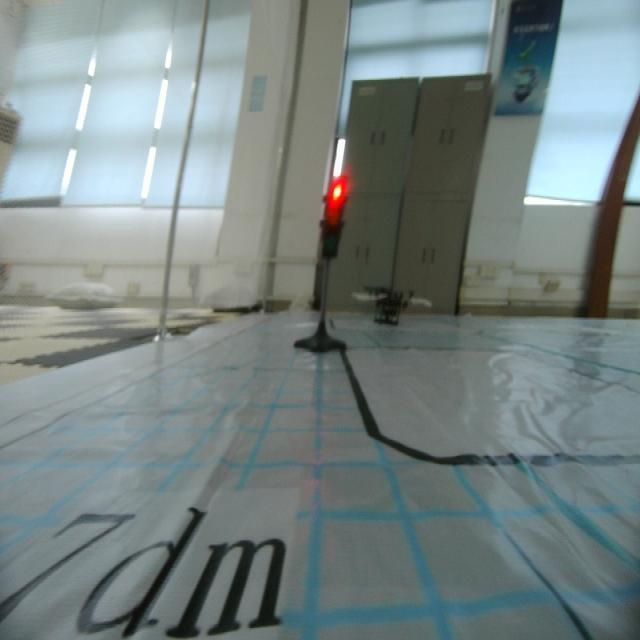red: (318, 179, 350, 258)
